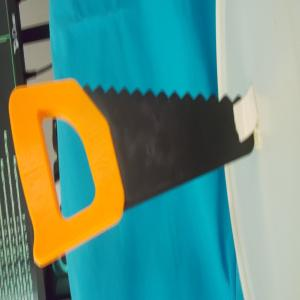serrote: (6, 73, 254, 268)
